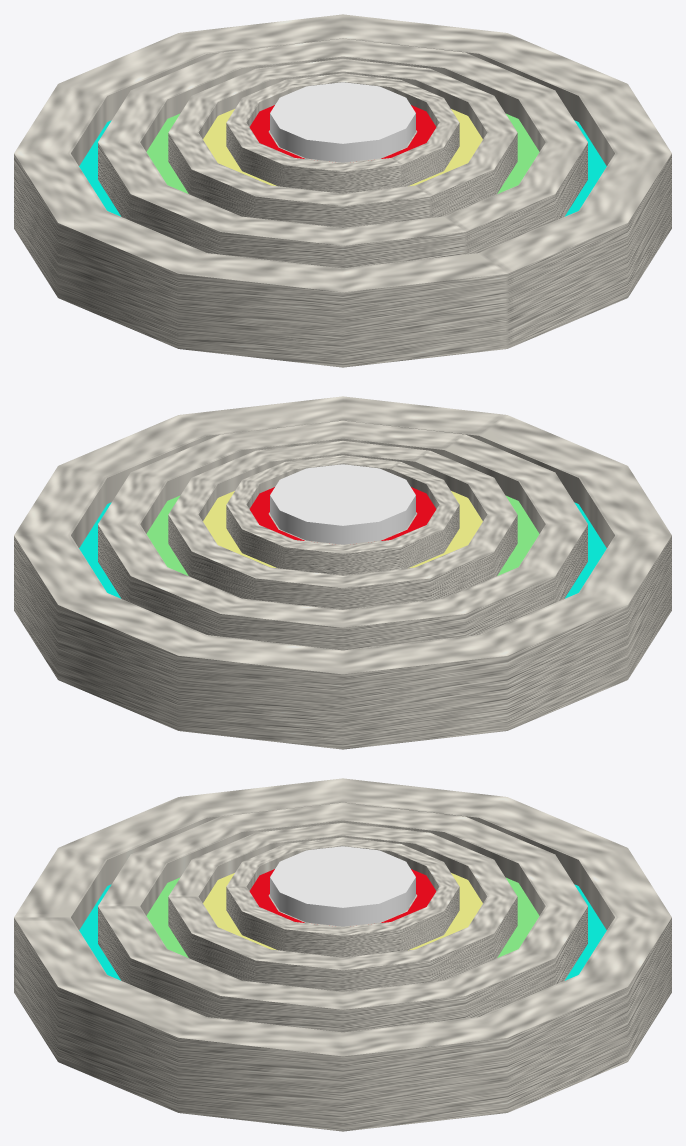
File: f_finaldoorswitch 1.fbx
3 views of the same model, one above another, from view 1: azimuth 30°, elevation 25°; view 2: azimuth 150°, elevation 25°; view 3: azimuth 270°, elevation 25° (orthographic).
Parts seen in each view (by area): view 1: f_finaldoorswitchblue, f_finaldoorswitchgreen, f_finaldoorswitchyellow, f_finaldoorswitchred, f_finaldoorswitchwhiteactived; view 2: f_finaldoorswitchblue, f_finaldoorswitchgreen, f_finaldoorswitchyellow, f_finaldoorswitchred, f_finaldoorswitchwhiteactived; view 3: f_finaldoorswitchblue, f_finaldoorswitchgreen, f_finaldoorswitchyellow, f_finaldoorswitchred, f_finaldoorswitchwhiteactived.
Boxes of the visible parts, x1=… form: f_finaldoorswitchblue: x1=14, y1=14, x2=671, y2=367; f_finaldoorswitchgreen: x1=98, y1=38, x2=587, y2=268; f_finaldoorswitchyellow: x1=168, y1=59, x2=517, y2=227; f_finaldoorswitchred: x1=226, y1=73, x2=459, y2=193; f_finaldoorswitchwhiteactived: x1=270, y1=82, x2=415, y2=162; f_finaldoorswitchblue: x1=14, y1=396, x2=671, y2=749; f_finaldoorswitchgreen: x1=98, y1=420, x2=587, y2=650; f_finaldoorswitchyellow: x1=168, y1=441, x2=517, y2=609; f_finaldoorswitchred: x1=226, y1=455, x2=459, y2=575; f_finaldoorswitchwhiteactived: x1=270, y1=464, x2=415, y2=544; f_finaldoorswitchblue: x1=14, y1=778, x2=671, y2=1131; f_finaldoorswitchgreen: x1=98, y1=802, x2=587, y2=1032; f_finaldoorswitchyellow: x1=168, y1=823, x2=517, y2=991; f_finaldoorswitchred: x1=226, y1=837, x2=459, y2=957; f_finaldoorswitchwhiteactived: x1=270, y1=846, x2=415, y2=926.
Size of the model in its own units: 37.06 by 7.18 by 37.06.
7 materials, 7 textured.
